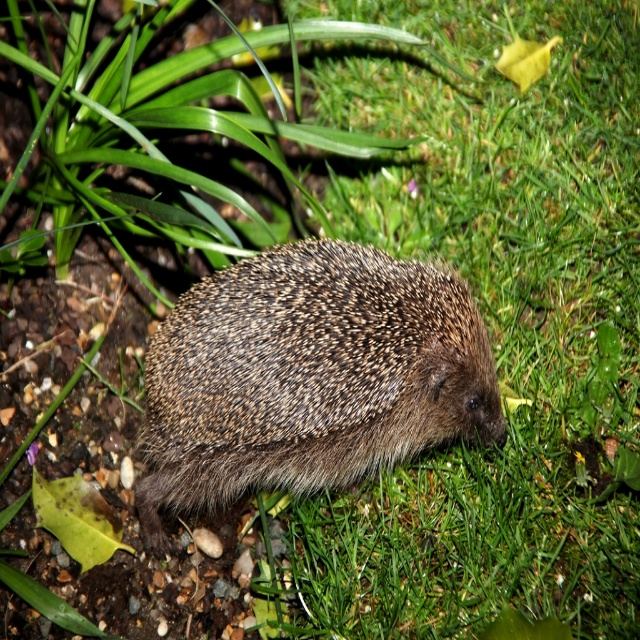Hedgehog: (130, 234, 508, 561)
